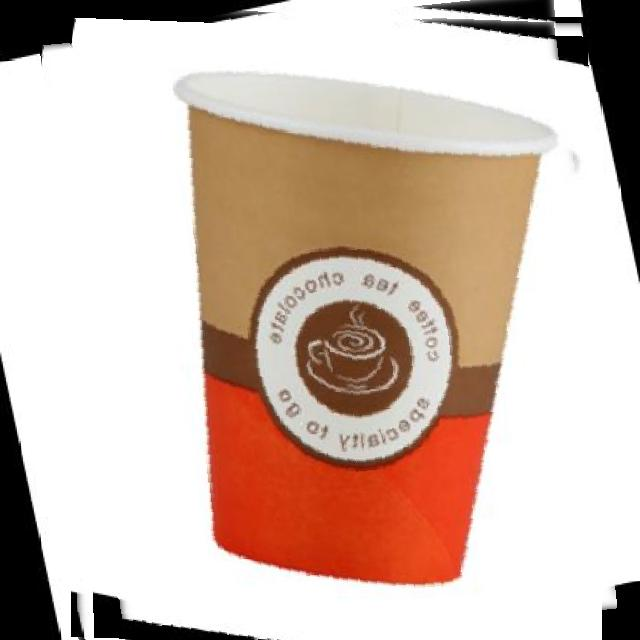non-biodegradable: (55, 4, 602, 640)
